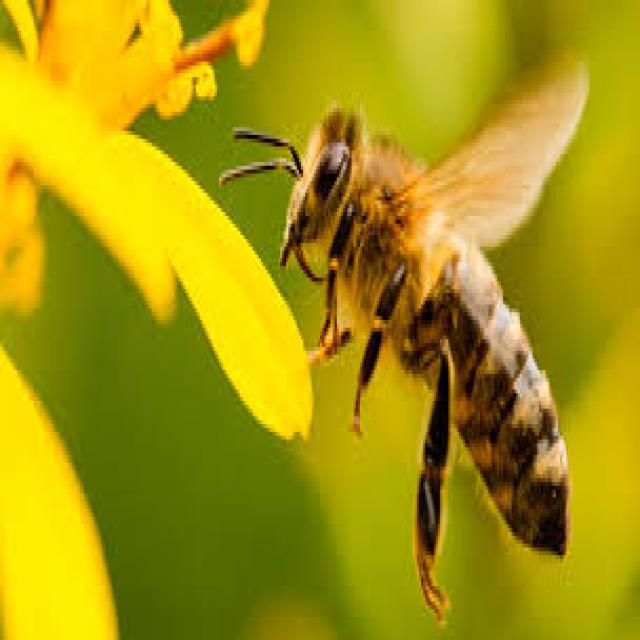Bees: (221, 51, 590, 629)
